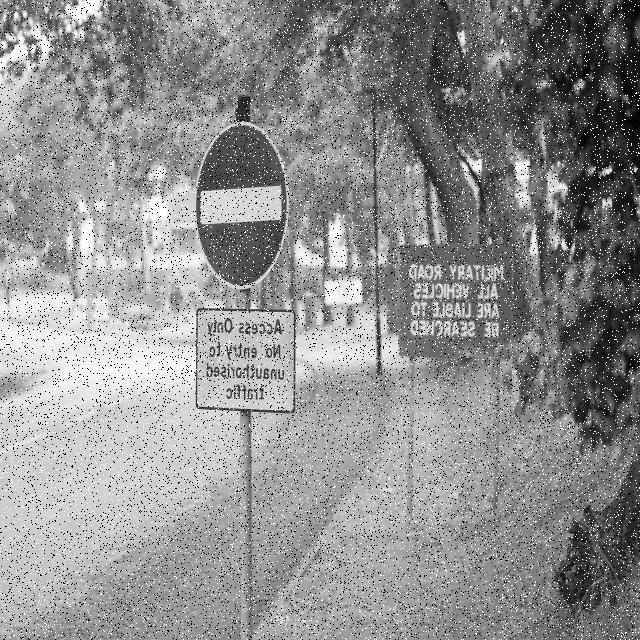no entry: (196, 120, 289, 289)
